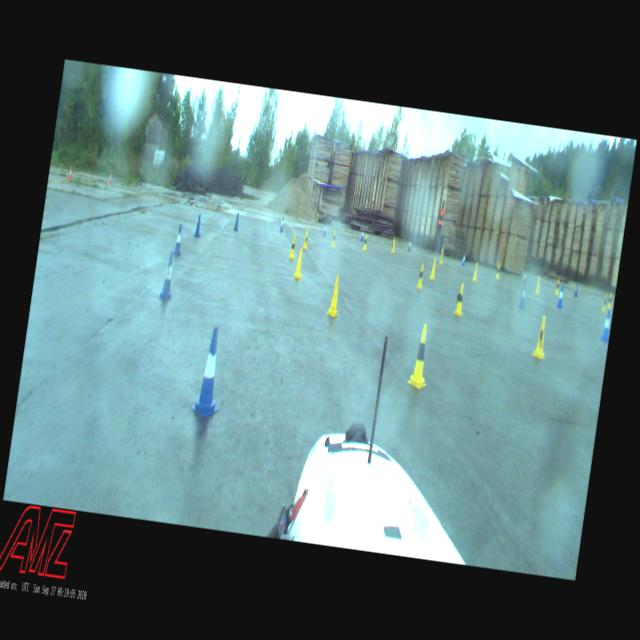blue_cone: (190, 326, 228, 419), (159, 252, 177, 300), (173, 225, 184, 256), (601, 310, 612, 340), (518, 283, 528, 307), (557, 285, 566, 309), (194, 214, 203, 237), (234, 213, 240, 231), (280, 216, 286, 232), (322, 222, 328, 236), (360, 229, 366, 240), (462, 252, 466, 266), (574, 283, 578, 297), (408, 238, 412, 251)
orange_cone: (68, 167, 72, 180), (108, 172, 112, 184)
yellow_cone: (408, 322, 434, 388), (326, 274, 344, 318), (532, 316, 550, 358), (453, 282, 468, 317), (294, 250, 304, 280), (416, 263, 425, 289), (289, 234, 298, 259), (429, 258, 438, 281), (302, 230, 310, 250), (471, 261, 479, 280), (534, 276, 542, 295), (553, 278, 561, 294), (601, 294, 608, 312), (331, 230, 337, 248), (608, 292, 614, 310), (496, 264, 502, 280), (438, 249, 444, 265), (363, 234, 368, 249), (392, 239, 396, 253)
